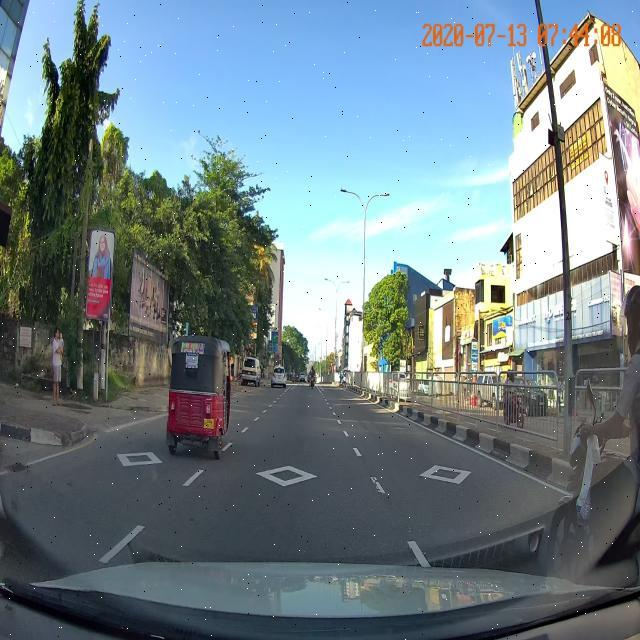diamond: (157, 443, 409, 503)
